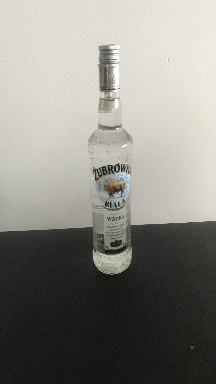butelka: (86, 41, 134, 278)
